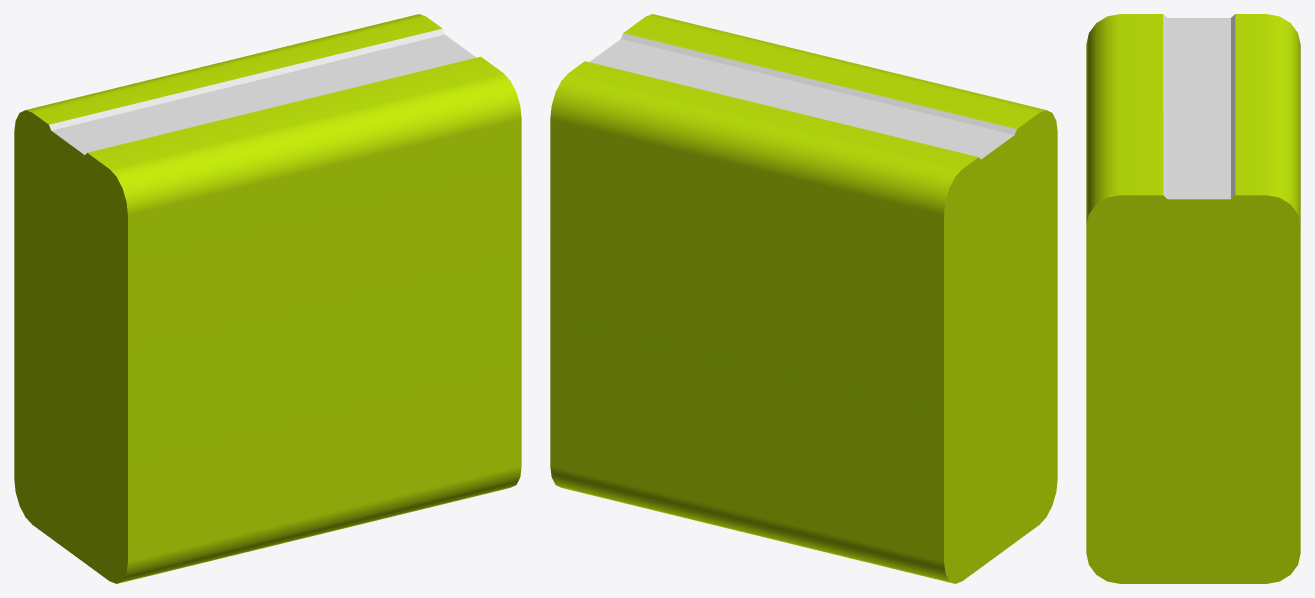
File: loopup_block.fbx
3 views of the same model, side by side, from view 1: azimuth 30°, elevation 25°; view 2: azimuth 150°, elevation 25°; view 3: azimuth 270°, elevation 25° (orthographic). The views are drawn at different scales.
Visible parts, largest first — view 1: pCube67; view 2: pCube67; view 3: pCube67.
Part boxes in pixels (x1=…): pCube67: x1=14, y1=14, x2=521, y2=583; pCube67: x1=550, y1=14, x2=1057, y2=583; pCube67: x1=1086, y1=14, x2=1300, y2=583.
Bounding box in the file's own units: 0.01 × 0.01 × 0.005.
